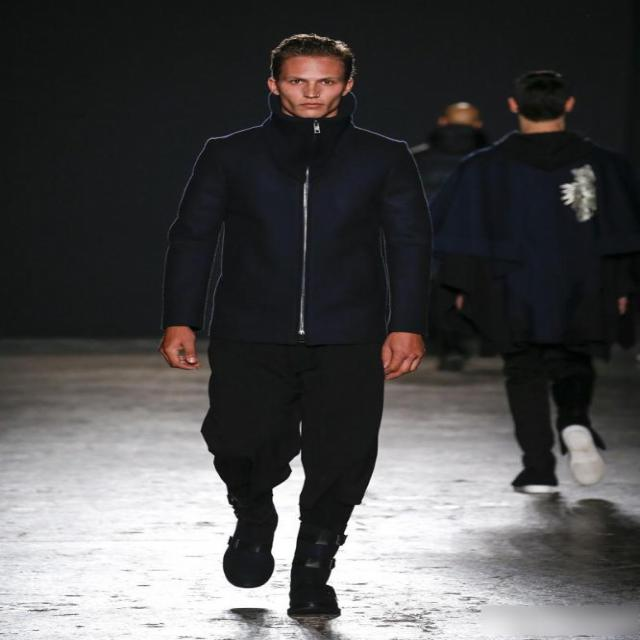Manusia: (124, 26, 468, 627)
